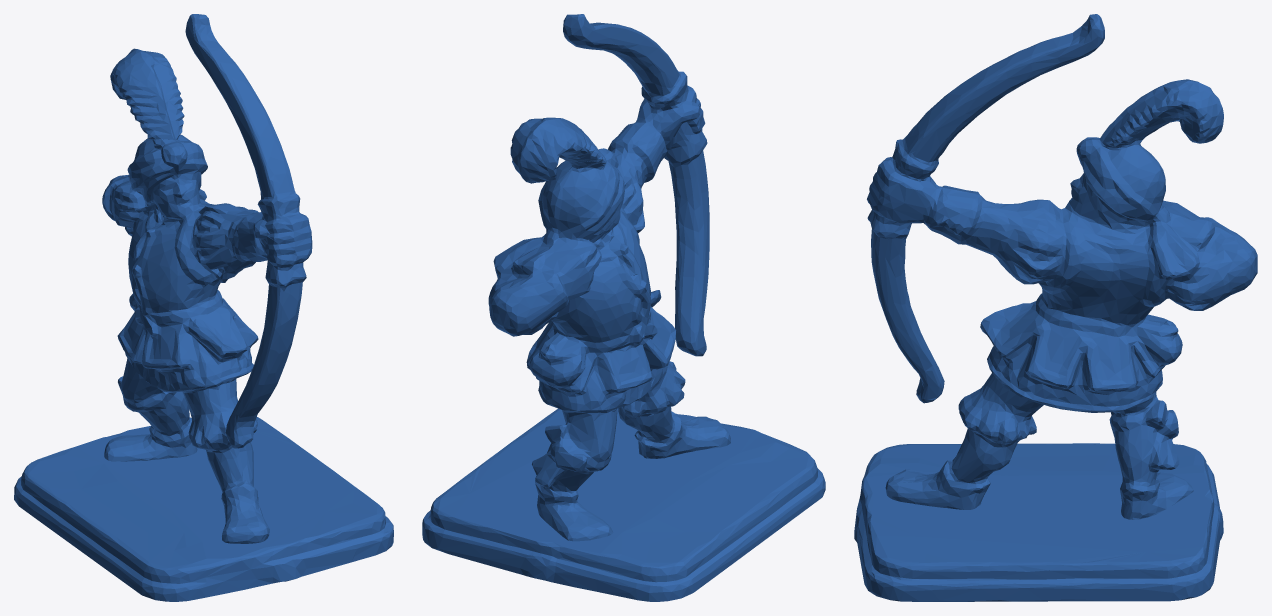
The model's file is archer.glb.
3 views of the same model, side by side, from view 1: azimuth 30°, elevation 25°; view 2: azimuth 150°, elevation 25°; view 3: azimuth 270°, elevation 25° (orthographic). The views are drawn at different scales.
Visible parts, largest first — view 1: Imperial_Archers_Imperial_Army; view 2: Imperial_Archers_Imperial_Army; view 3: Imperial_Archers_Imperial_Army.
Boxes of the visible parts, box(x1,y1,x2,y2) form: Imperial_Archers_Imperial_Army: box(14, 14, 393, 601); Imperial_Archers_Imperial_Army: box(422, 14, 825, 601); Imperial_Archers_Imperial_Army: box(854, 14, 1257, 601).
Size of the model in its own units: 12.62 by 23.23 by 16.05.
